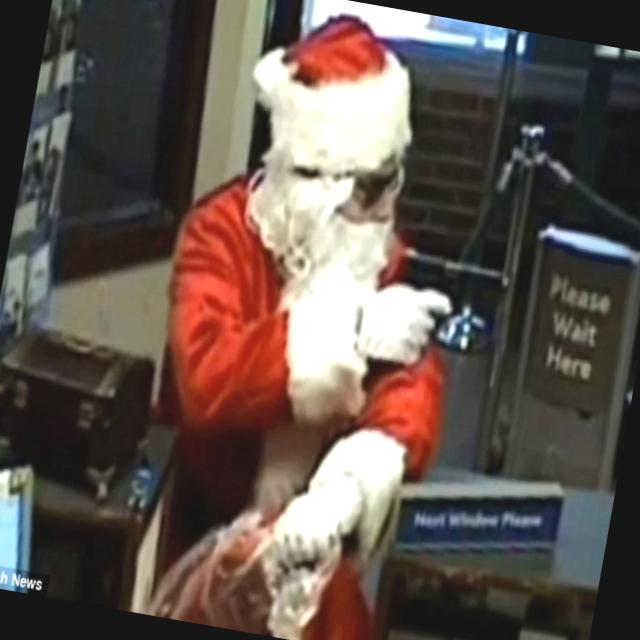handgun: (375, 236, 504, 370)
